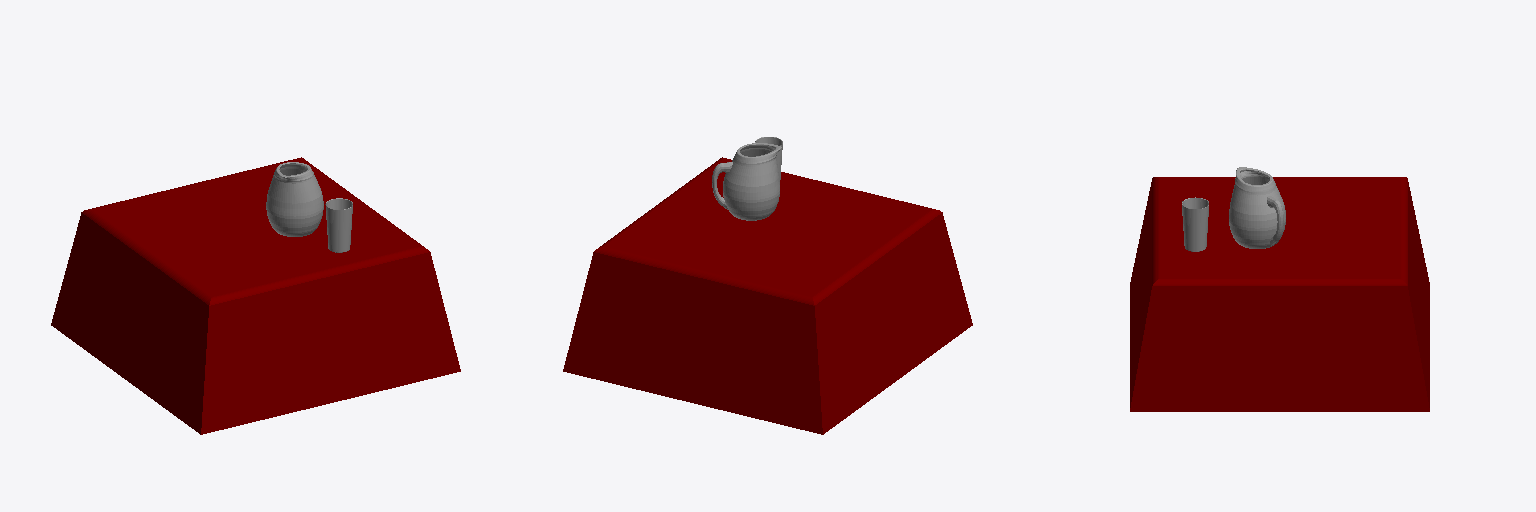
File: glass.obj
3 renders of one model, left to right at view 1: azimuth 30°, elevation 25°; view 2: azimuth 150°, elevation 25°; view 3: azimuth 270°, elevation 25°, orthographic.
Parts seen in each view (by area): view 1: Plane, Sphere.001, Sphere; view 2: Plane, Sphere.001; view 3: Plane, Sphere.001, Sphere.
Part boxes in pixels (x1,y1,x2,y2): Plane: (51, 157, 460, 434); Sphere.001: (266, 162, 323, 236); Sphere: (325, 198, 352, 252); Plane: (563, 157, 972, 434); Sphere.001: (712, 143, 781, 220); Plane: (1130, 177, 1429, 411); Sphere.001: (1229, 167, 1285, 248); Sphere: (1182, 197, 1208, 251).
Bounding box in the file's own units: 24.7 × 16.75 × 24.7.